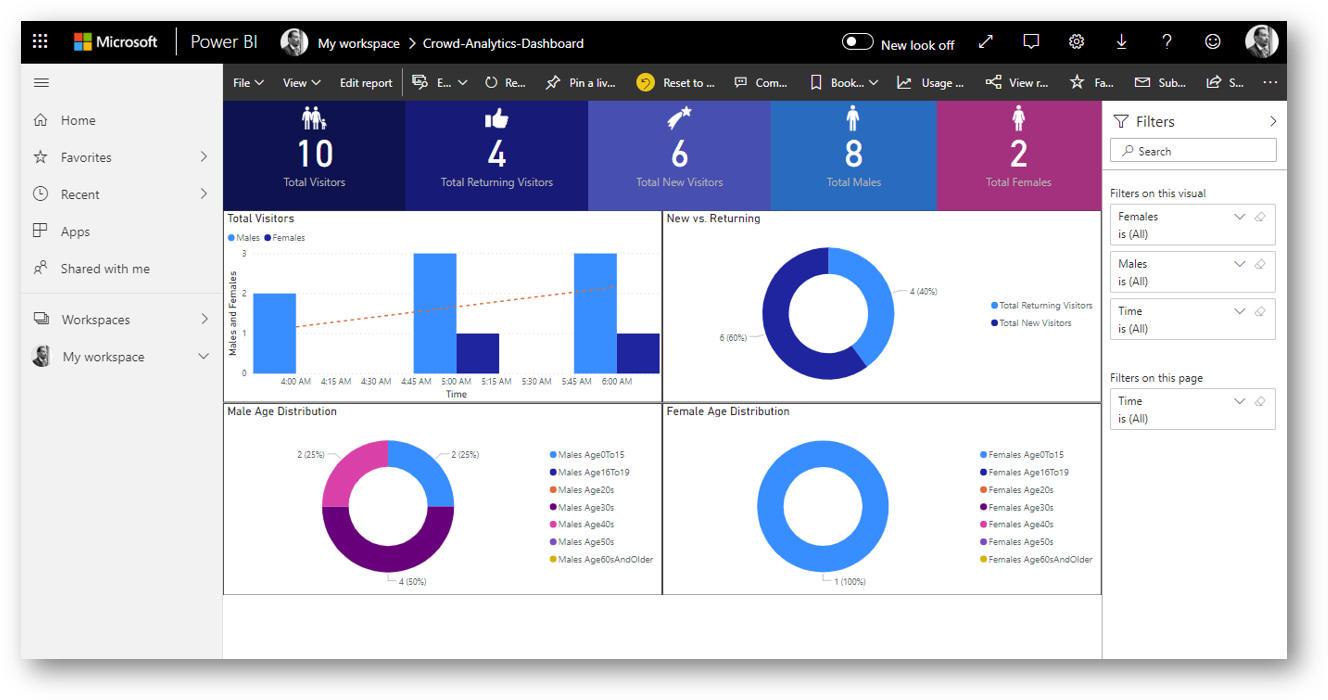

The dashboard page shown, as its layout file describes it:
{"tool":"powerbi","page":{"name":"Crowd Analytics","canvas":[1280,720],"ordinal":0},"visuals":[{"type":"clusteredColumnChart","title":"Total Visitors","fields":{"Category":["crowd-demographics.Document.WindowStart Hierarchy.Document.WindowStart"],"Y":["Sum(crowd-demographics.Total Males)","Sum(crowd-demographics.Document.TotalFemales)"]},"box":[0,159.7,640,280.1],"z":0},{"type":"donutChart","title":"Female Age Distribution","fields":{"Y":["Sum(crowd-demographics.Females Age0To15)","Sum(crowd-demographics.Females Age16To19)","Sum(crowd-demographics.Females Age20s)","Sum(crowd-demographics.Females Age30s)","Sum(crowd-demographics.Females Age40s)","Sum(crowd-demographics.Females Age50s)","Sum(crowd-demographics.Females Age60sAndOlder)"]},"box":[640,439.8,640,280.1],"z":1000},{"type":"donutChart","title":"Male Age Distribution","fields":{"Y":["Sum(crowd-demographics.Males Age0To15)","Sum(crowd-demographics.Males Age16To19)","Sum(crowd-demographics.Males Age20s)","Sum(crowd-demographics.Males Age30s)","Sum(crowd-demographics.Males Age40s)","Sum(crowd-demographics.Males Age50s)","Sum(crowd-demographics.Males Age60sAndOlder)"]},"box":[0,439.8,640,280.1],"z":2000},{"type":"donutChart","title":"New vs. Returning","fields":{"Y":["Sum(crowd-demographics.Total Returning Visitors)","Sum(crowd-demographics.Total New Visitors)"]},"box":[640,159.7,640,280.1],"z":3000},{"type":"card","fields":{"Values":["Sum(crowd-demographics.Total Females)"]},"box":[1038.1,0,241.9,159.7],"z":4000},{"type":"card","fields":{"Values":["Sum(crowd-demographics.Total Returning Visitors)"]},"box":[265.8,0,265.8,159.7],"z":5000},{"type":"card","fields":{"Values":["Sum(crowd-demographics.Total New Visitors)"]},"box":[531.5,0,265.8,159.7],"z":6000},{"type":"card","fields":{"Values":["Sum(crowd-demographics.Total Visitors)"]},"box":[0,0,265.8,159.7],"z":7000},{"type":"card","fields":{"Values":["Sum(crowd-demographics.Total Males)"]},"box":[797.3,0,241.9,159.7],"z":8000},{"type":"image","box":[107.6,0,50.2,50.2],"z":9000},{"type":"image","box":[374.1,0,50.2,50.2],"z":9001},{"type":"image","box":[639.4,0,50.2,50.2],"z":9002},{"type":"image","box":[892.8,0,50.2,50.2],"z":9003},{"type":"image","box":[1134.2,0,50.2,50.2],"z":9004}]}

Visuals, with their boxes on the page's 1280x720 design canvas (x1, y1, x2, y2). These are canvas units, not pixel positions in the 1328x700 screenshot, which may show the page scaled, cropped or inside an application window:
"Total Visitors" clusteredColumnChart: bbox=[0, 160, 640, 440]
"Female Age Distribution" donutChart: bbox=[640, 440, 1280, 720]
"Male Age Distribution" donutChart: bbox=[0, 440, 640, 720]
"New vs. Returning" donutChart: bbox=[640, 160, 1280, 440]
card - Sum(crowd-demographics.Total Females): bbox=[1038, 0, 1280, 160]
card - Sum(crowd-demographics.Total Returning Visitors): bbox=[266, 0, 532, 160]
card - Sum(crowd-demographics.Total New Visitors): bbox=[532, 0, 797, 160]
card - Sum(crowd-demographics.Total Visitors): bbox=[0, 0, 266, 160]
card - Sum(crowd-demographics.Total Males): bbox=[797, 0, 1039, 160]
image: bbox=[108, 0, 158, 50]
image: bbox=[374, 0, 424, 50]
image: bbox=[639, 0, 690, 50]
image: bbox=[893, 0, 943, 50]
image: bbox=[1134, 0, 1184, 50]
